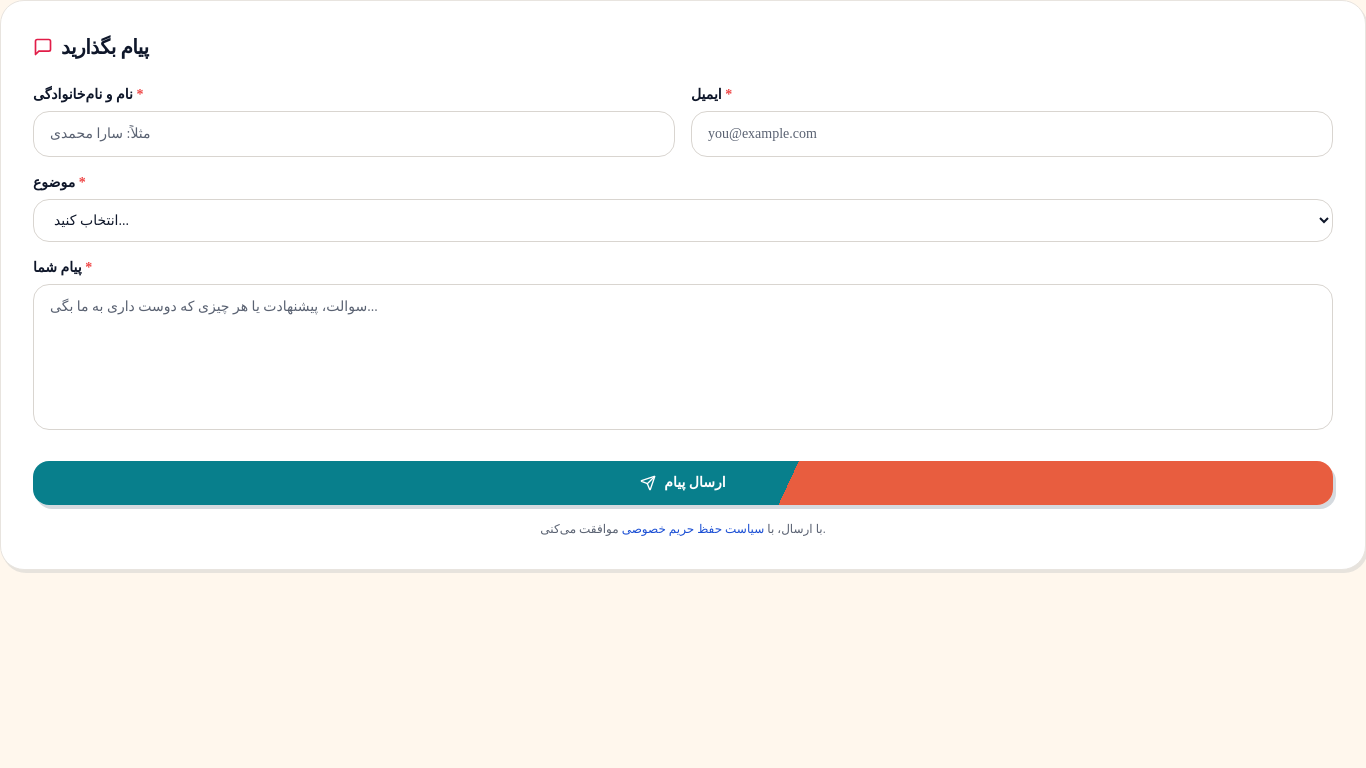
Test case: ContactForm — accessibility › announces async success via an aria-live polite region
Type "سارا محمدی" into the field labelled "نام و نام‌خانوادگی *".
click(354, 134); type("سارا محمدی")  # box [33,111,675,157]
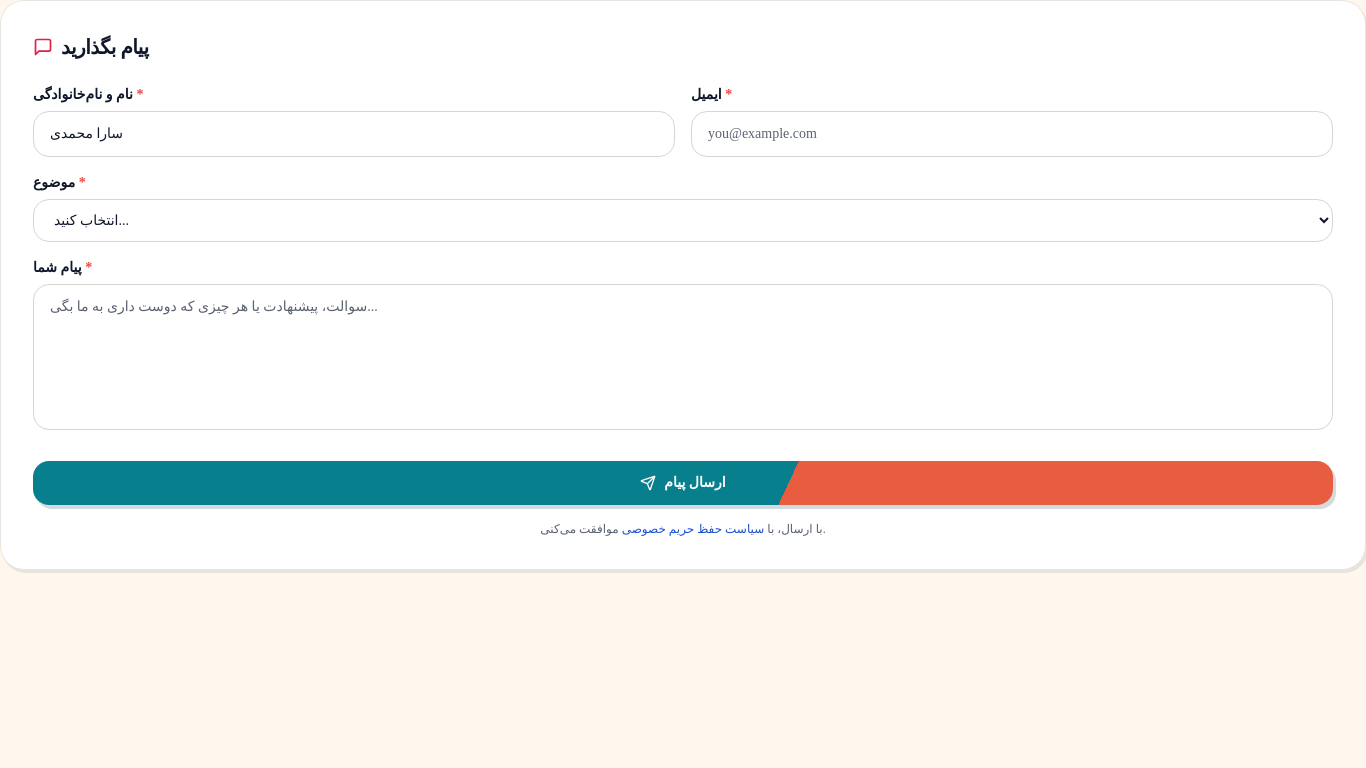
Type "sara@example.com" into the field labelled "ایمیل *".
click(1012, 134); type("sara@example.com")  # box [691,111,1333,157]
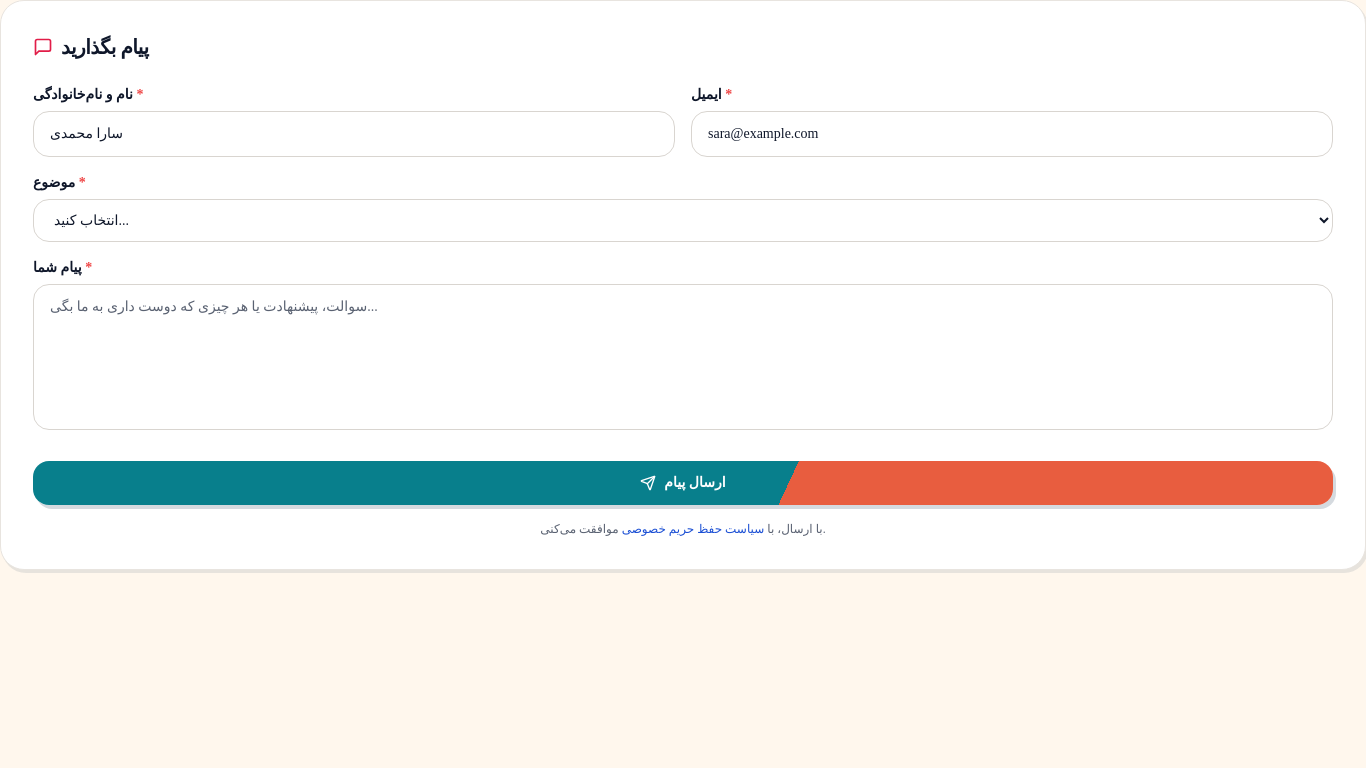
Select "سوال درباره دوره‌ها" in the dropdown labelled "موضوع *" at x=683, y=220, box [33,199,1333,242]
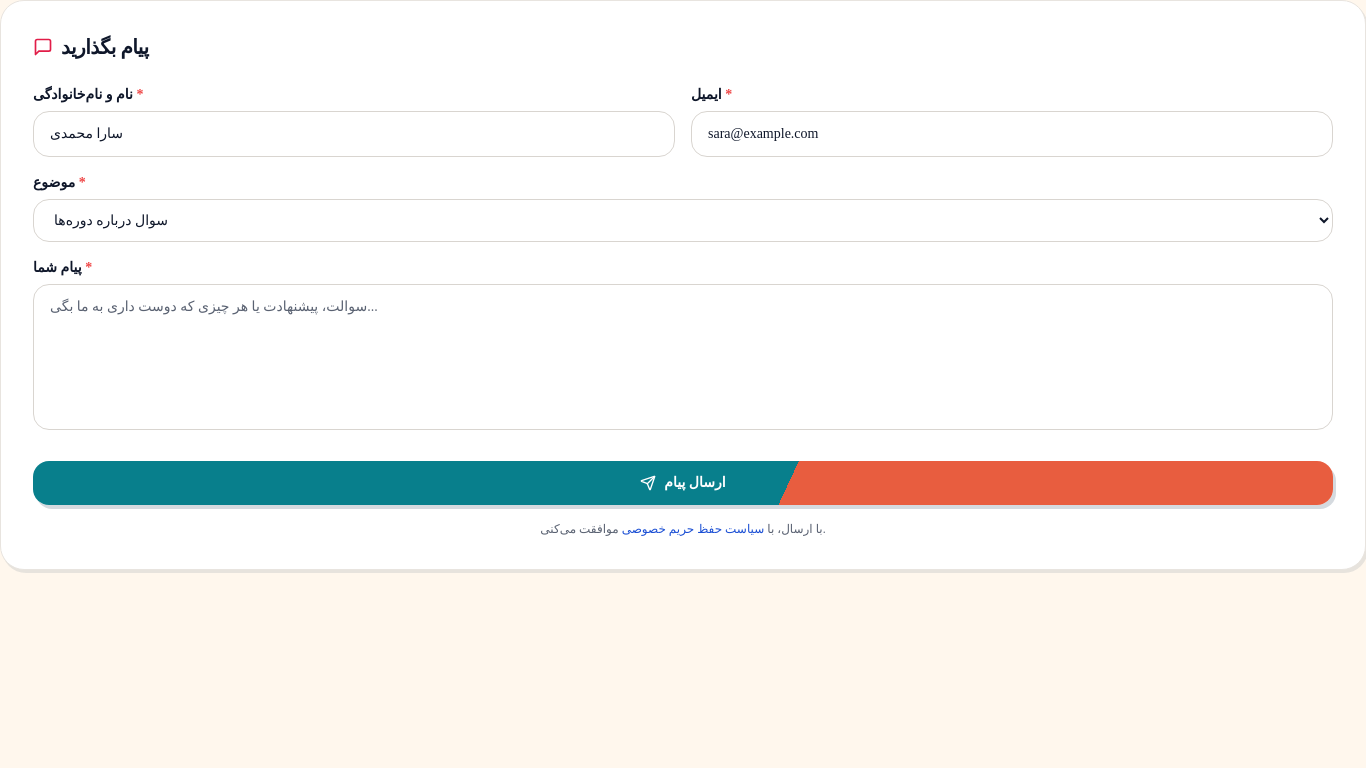
Type "من درباره ثبت‌نام در دوره‌ی برنامه‌نویسی سوال دارم و می‌خواهم اطلاعات بیشتری بگیرم." into the text box labelled "پیام شما *".
click(683, 357); type("من درباره ثبت‌نام در دوره‌ی برنامه‌نویسی سوال دارم و می‌خواهم اطلاعات بیشتری بگیرم.")  # box [33,284,1333,430]
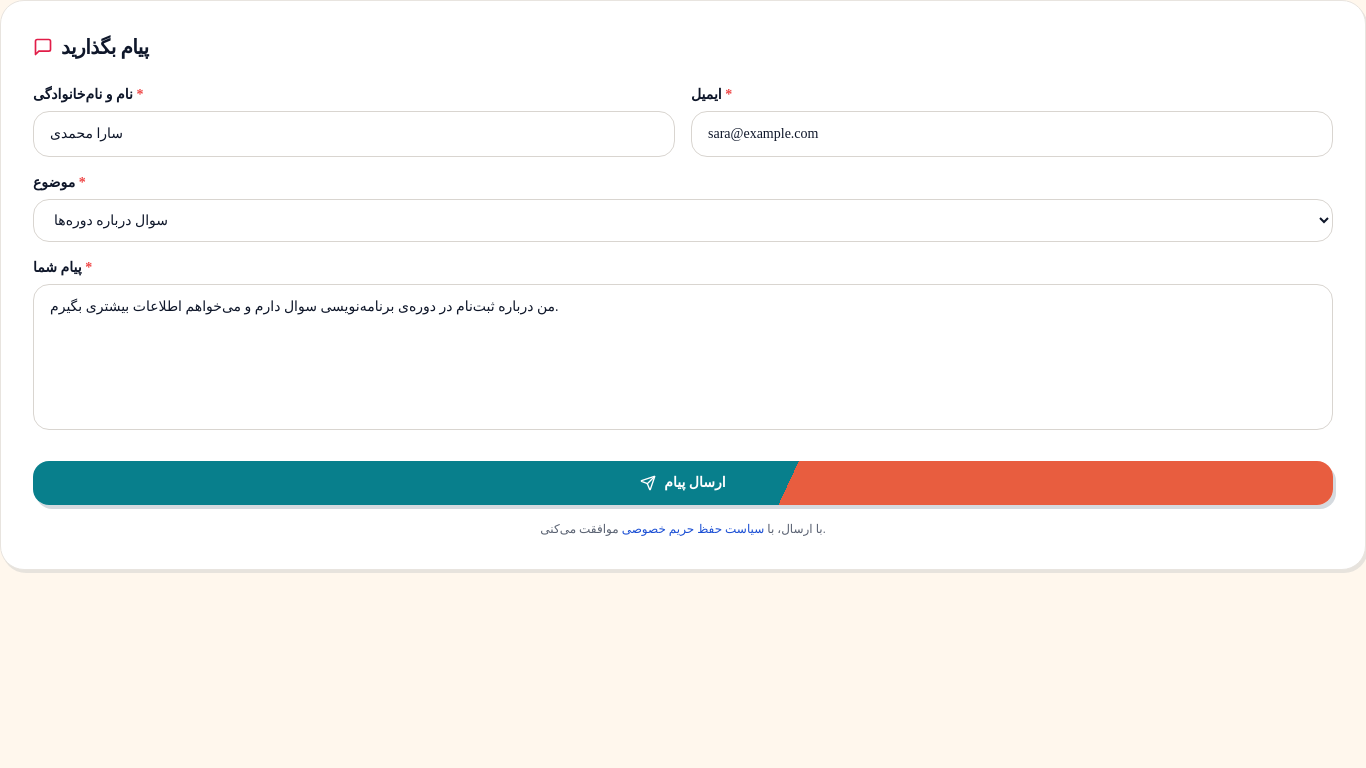
Click the button "ارسال پیام".
click(683, 483)  # box [33,461,1333,505]
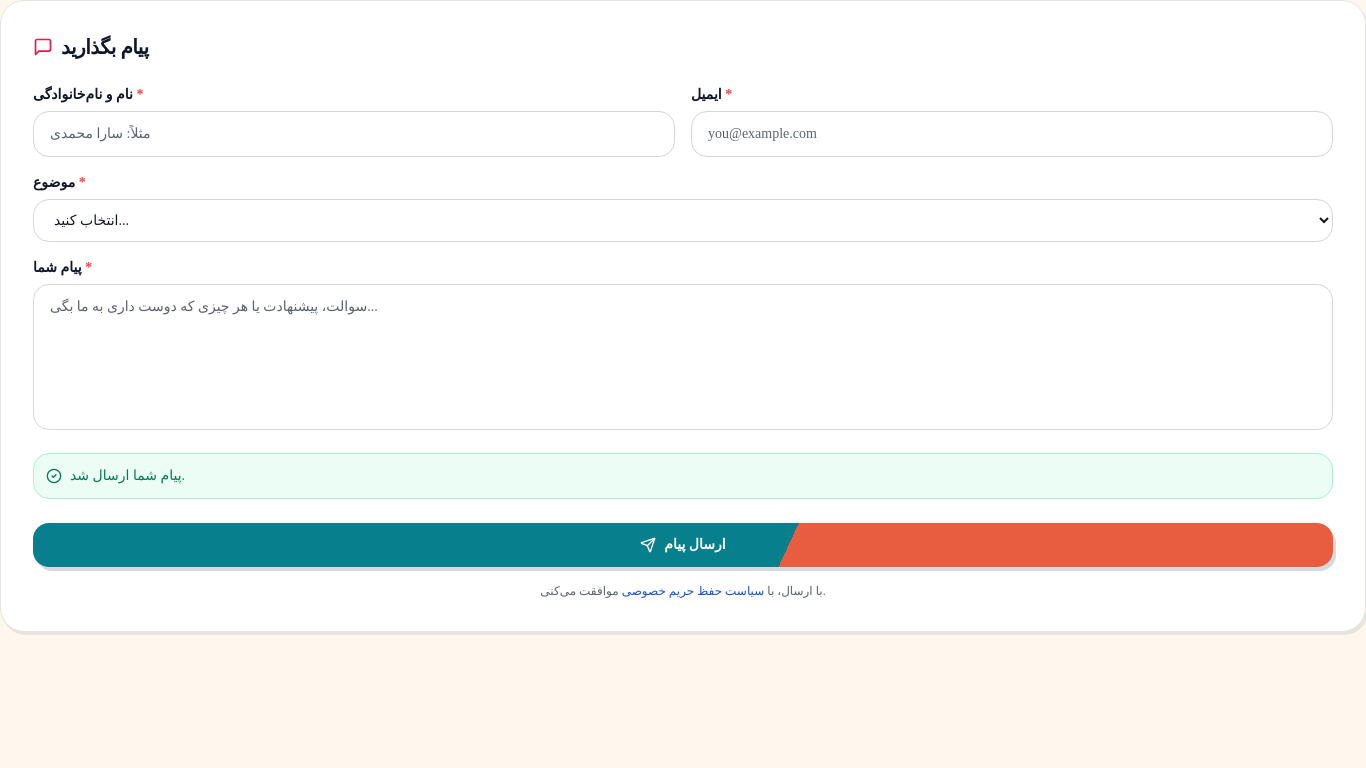
expect the text "پیام شما ارسال شد." is shown: met, box [70,466,185,486]
